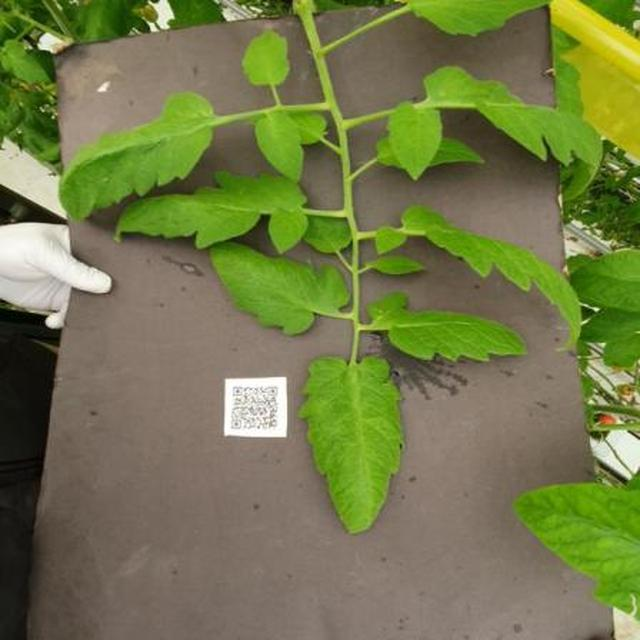Healthy Leaf: (71, 88, 640, 635)
